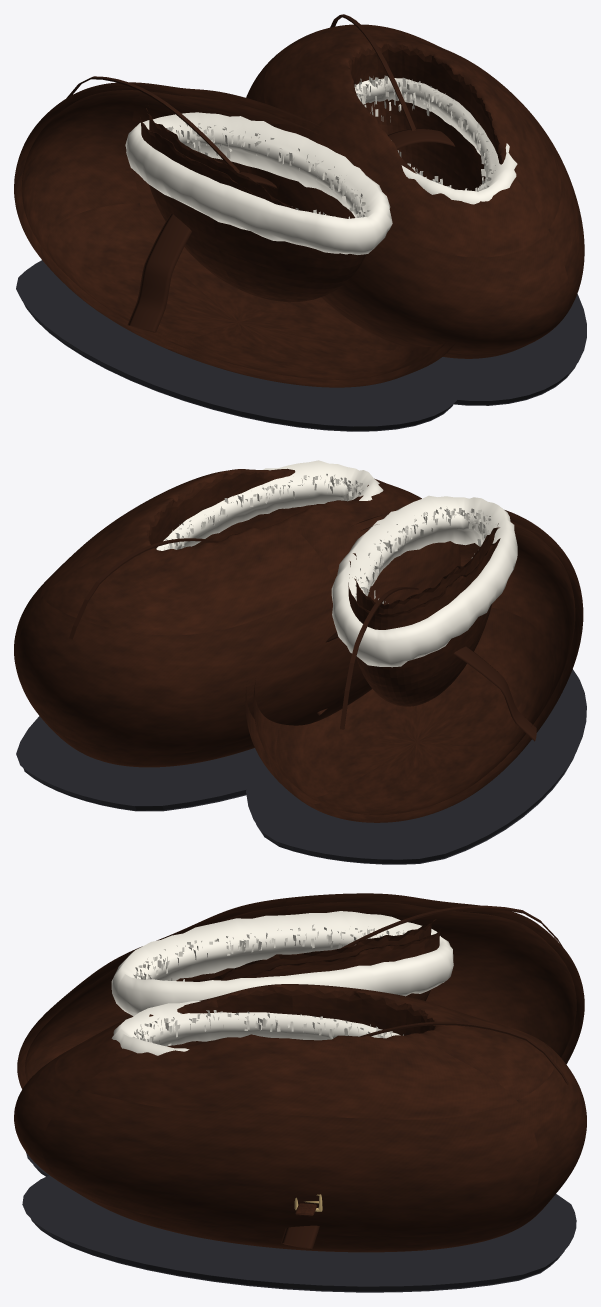
Rendered from suede_clogs.glb.
The picture shows the model from 3 angles, top to bottom: view 1: azimuth 30°, elevation 25°; view 2: azimuth 150°, elevation 25°; view 3: azimuth 270°, elevation 25°; orthographic projection. The views are drawn at different scales.
Visible parts, largest first — view 1: Shell, Shell.001, Sole.001, Shearling.001, Sole, Shearling, Strap.001, Seam.001, Strap, Seam; view 2: Shell, Shell.001, Sole.001, Shearling.001, Sole, Shearling, Strap.001, Seam.001, Seam; view 3: Shell, Shell.001, Sole, Shearling.001, Shearling, Strap, Seam.001, Seam.
Part boxes in pixels (bbox=[...]): Shell: bbox=[242, 24, 584, 358]; Shell.001: bbox=[14, 82, 455, 387]; Sole.001: bbox=[16, 260, 459, 431]; Shearling.001: bbox=[125, 112, 392, 254]; Sole: bbox=[383, 294, 586, 405]; Shearling: bbox=[354, 75, 517, 204]; Strap.001: bbox=[127, 172, 277, 332]; Seam.001: bbox=[58, 76, 240, 173]; Strap: bbox=[387, 128, 455, 149]; Seam: bbox=[330, 14, 415, 130]; Shell: bbox=[14, 468, 460, 767]; Shell.001: bbox=[245, 507, 583, 822]; Sole.001: bbox=[246, 669, 586, 864]; Shearling.001: bbox=[331, 495, 517, 667]; Sole: bbox=[16, 716, 277, 811]; Shearling: bbox=[156, 460, 383, 550]; Strap.001: bbox=[326, 632, 536, 741]; Seam.001: bbox=[340, 587, 418, 729]; Seam: bbox=[69, 538, 220, 639]; Shell: bbox=[14, 984, 586, 1252]; Shell.001: bbox=[17, 893, 584, 1089]; Sole: bbox=[22, 1175, 576, 1292]; Shearling.001: bbox=[111, 911, 453, 1016]; Shearling: bbox=[111, 1001, 403, 1055]; Strap: bbox=[281, 1203, 319, 1249]; Seam.001: bbox=[340, 905, 576, 969]; Seam: bbox=[360, 1021, 568, 1084].
Size of the model in its own units: 0.9549 by 0.4058 by 0.9836.
Materials: 4 (1 with a texture image).
